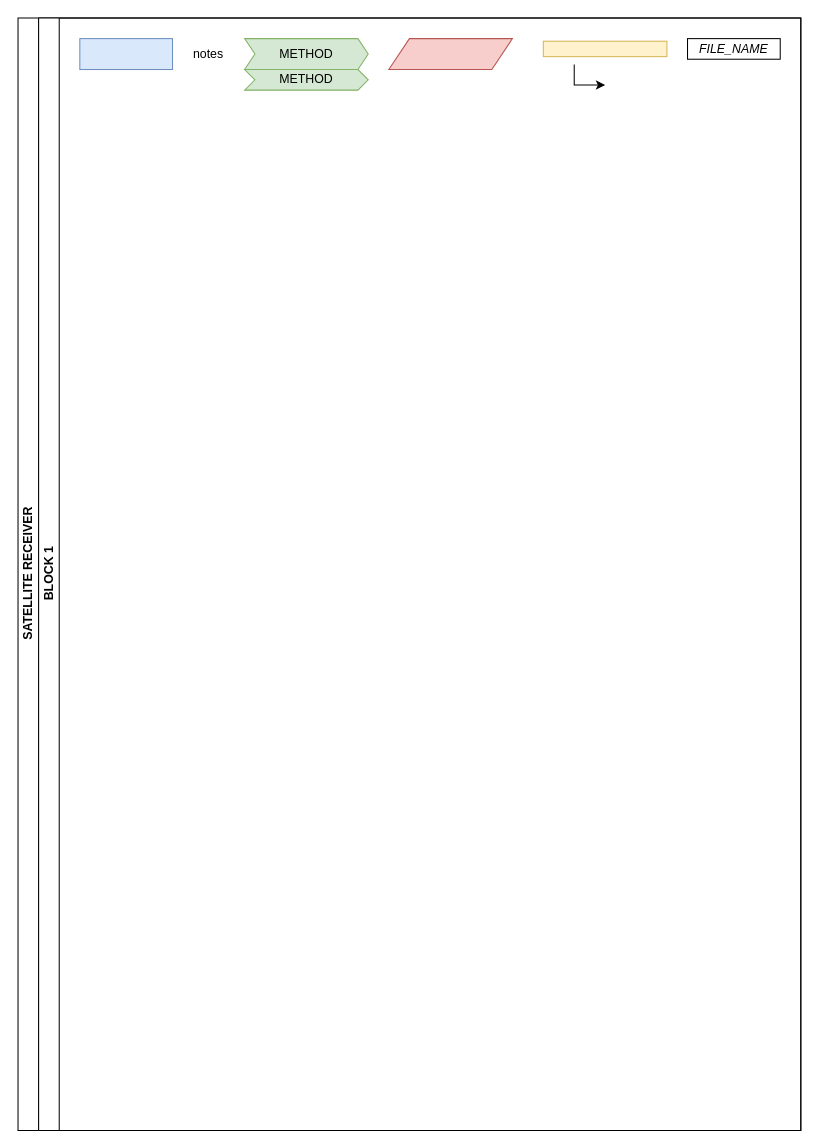
This 819x1148 diagram has some shape labels left out. Each missing label, with the box of its shape:
CLASS: (388, 38, 512, 70)
LOGIC BLOCK: (79, 38, 173, 70)
PROPERTY: (542, 40, 667, 57)
